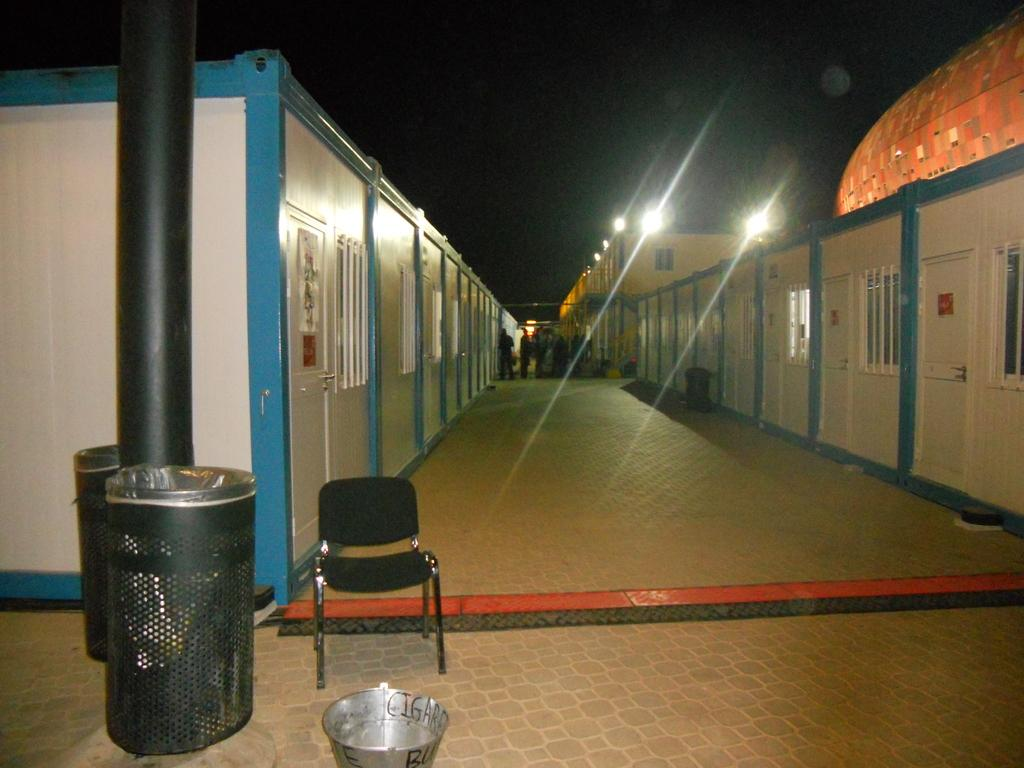Chair: (289, 484, 439, 705)
